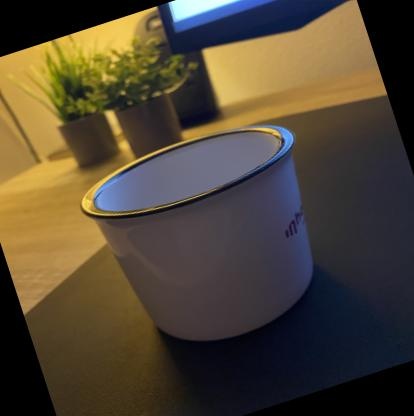Cup: (69, 104, 354, 373)
